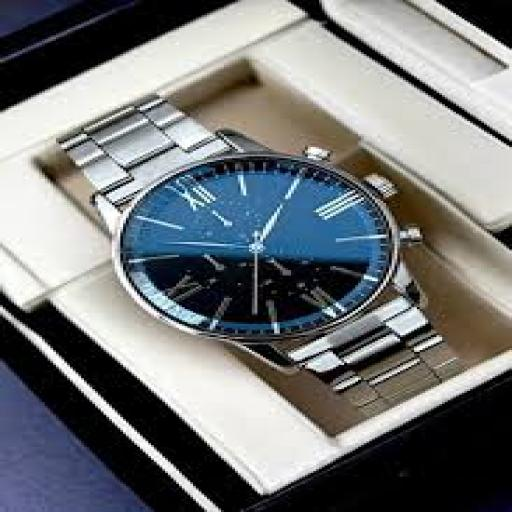KolSaati: (64, 80, 488, 413)
